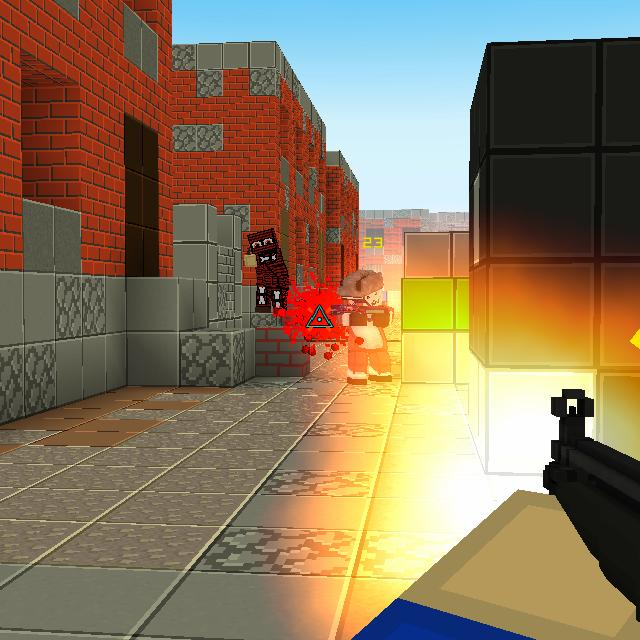enemy: (332, 267, 396, 385), (243, 228, 290, 314)
